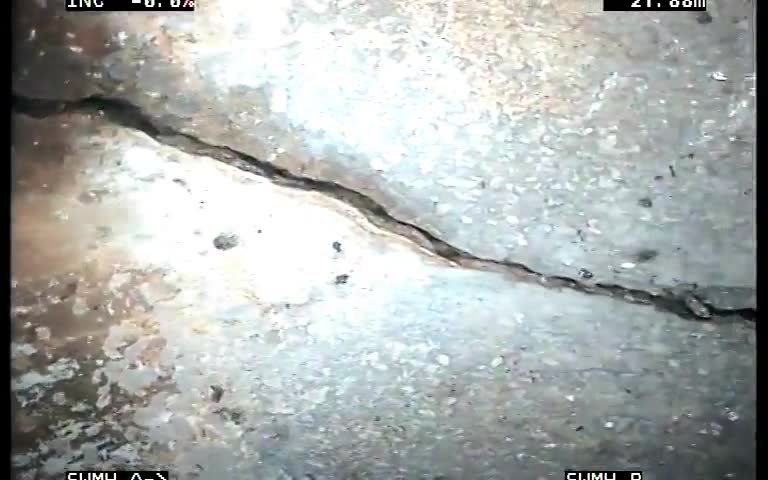Crack: (20, 43, 749, 377)
